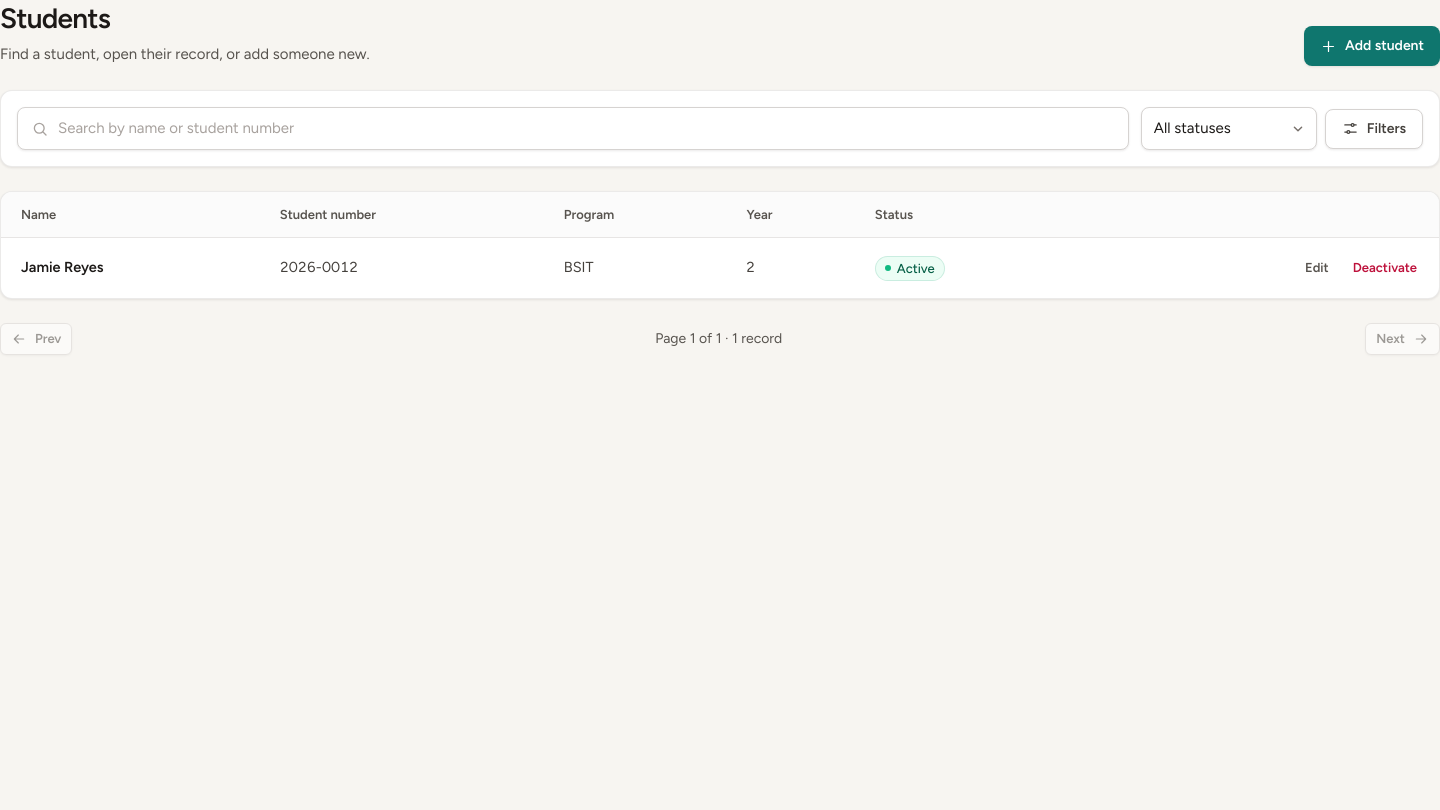
Test: StudentsListPage › opens the confirmation dialog when Deactivate is clicked
Click the button "Deactivate" at (1385, 268), box [1343, 252, 1427, 284]
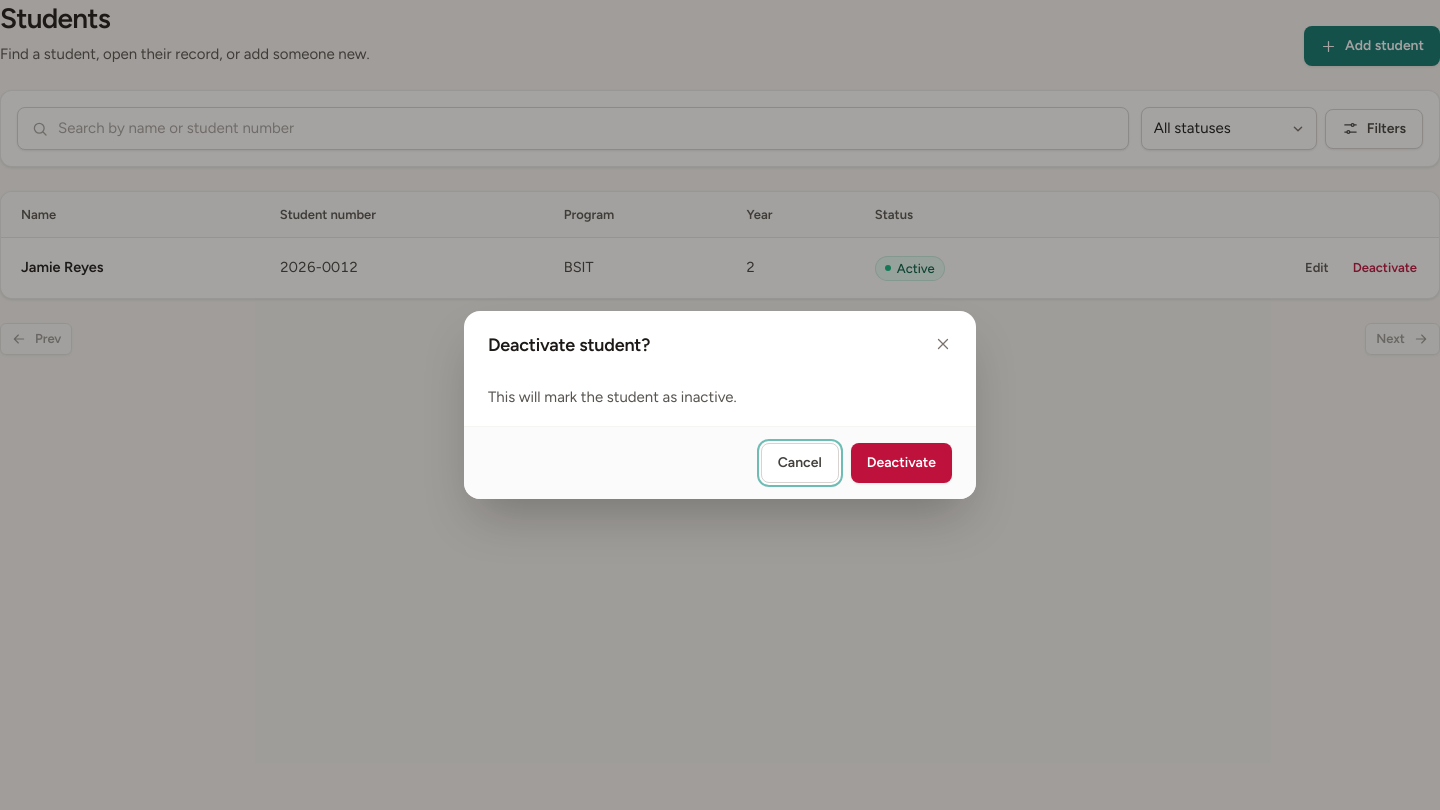
Expected: the dialog "Deactivate student?" is shown, [464, 311, 976, 499]
Expected: the text "This will mark the student as inactive." is shown, [488, 388, 737, 406]
